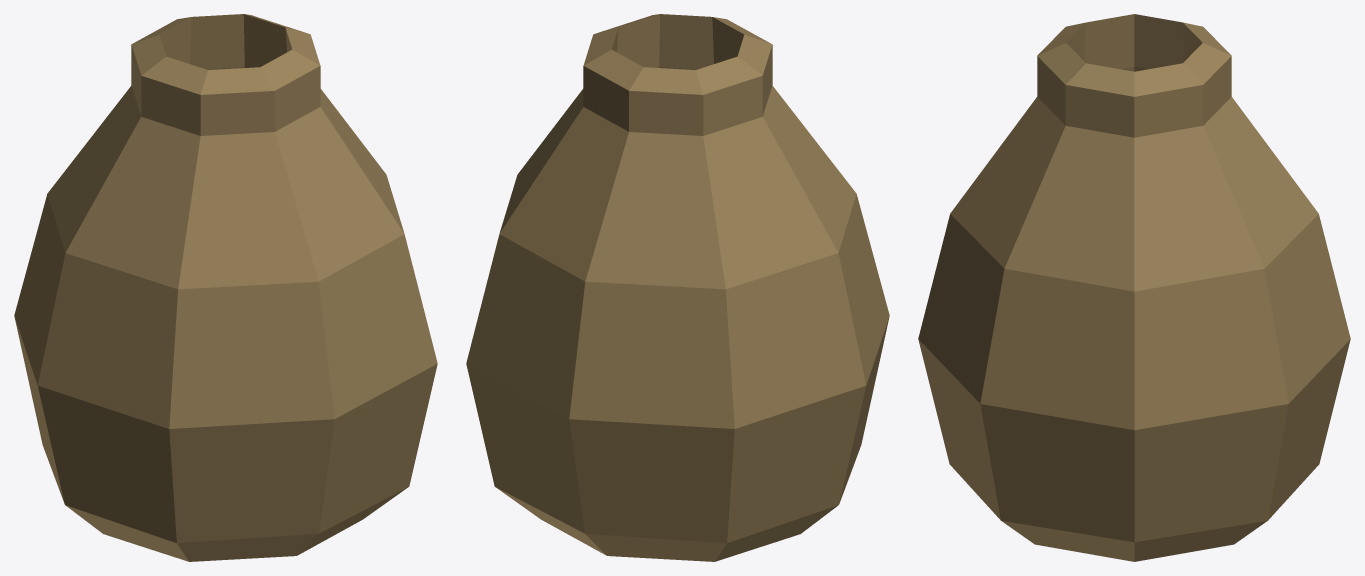
The model's file is Jug_1_1.fbx.
The picture shows the model from 3 angles, left to right: view 1: azimuth 30°, elevation 25°; view 2: azimuth 150°, elevation 25°; view 3: azimuth 270°, elevation 25°; orthographic projection.
Parts seen in each view (by area): view 1: Jug_1_1; view 2: Jug_1_1; view 3: Jug_1_1.
Part boxes in pixels (x1,y1,x2,y2): Jug_1_1: [14, 14, 437, 561]; Jug_1_1: [466, 14, 889, 561]; Jug_1_1: [918, 14, 1350, 561].
Size of the model in its own units: 28.95 by 33.93 by 28.95.
